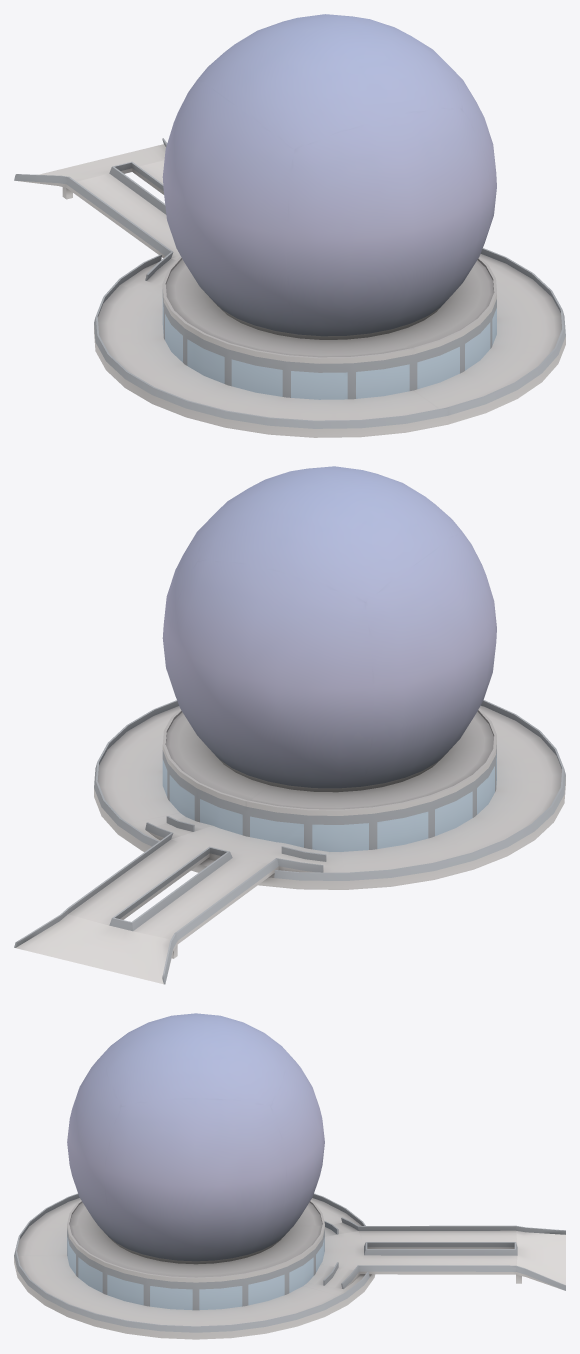
File: KSA-40.glb
3 views of the same model, one above another, from view 1: azimuth 30°, elevation 25°; view 2: azimuth 150°, elevation 25°; view 3: azimuth 270°, elevation 25° (orthographic). The views are drawn at different scales.
Visible parts, largest first — view 1: Boulevard_World_The_Sphere_baked; view 2: Boulevard_World_The_Sphere_baked; view 3: Boulevard_World_The_Sphere_baked.
Boxes of the visible parts, x1,y1,x2,y2 form: Boulevard_World_The_Sphere_baked: (14,14,565,437); Boulevard_World_The_Sphere_baked: (14,466,565,984); Boulevard_World_The_Sphere_baked: (14,1013,565,1339).
Bounding box in the file's own units: 48 × 34.52 × 72.77.
Materials: 1 (1 with a texture image).
